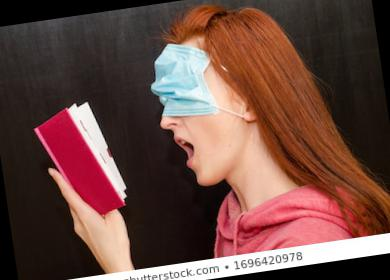mask_weared_incorrect: (147, 58, 235, 194)
